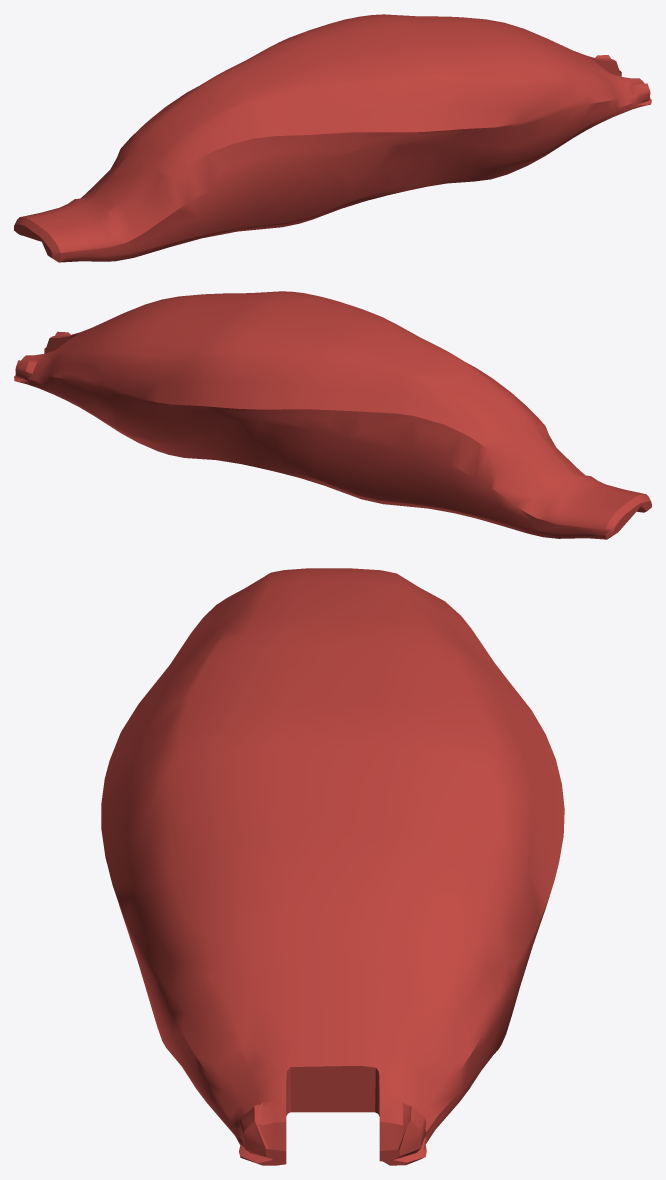
Rendered from sports_tourer_5_lod2.glb.
3 renders of one model, top to bottom at view 1: azimuth 30°, elevation 25°; view 2: azimuth 150°, elevation 25°; view 3: azimuth 270°, elevation 25°, orthographic. The views are drawn at different scales.
Parts seen in each view (by area): view 1: sports_tourer_5_lod2; view 2: sports_tourer_5_lod2; view 3: sports_tourer_5_lod2.
Part boxes in pixels (x1,y1,x2,y2): sports_tourer_5_lod2: (14, 14, 651, 262); sports_tourer_5_lod2: (14, 291, 651, 539); sports_tourer_5_lod2: (101, 568, 564, 1165).
Bounding box in the file's own units: 1.29 × 0.278 × 0.4298.
